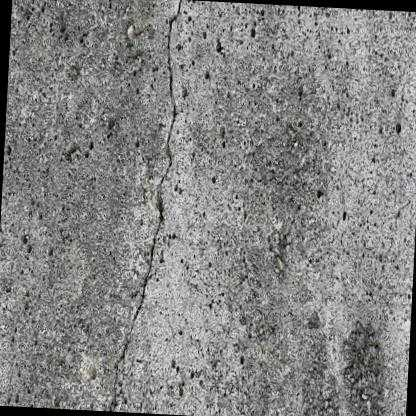crack: (108, 0, 180, 411)
